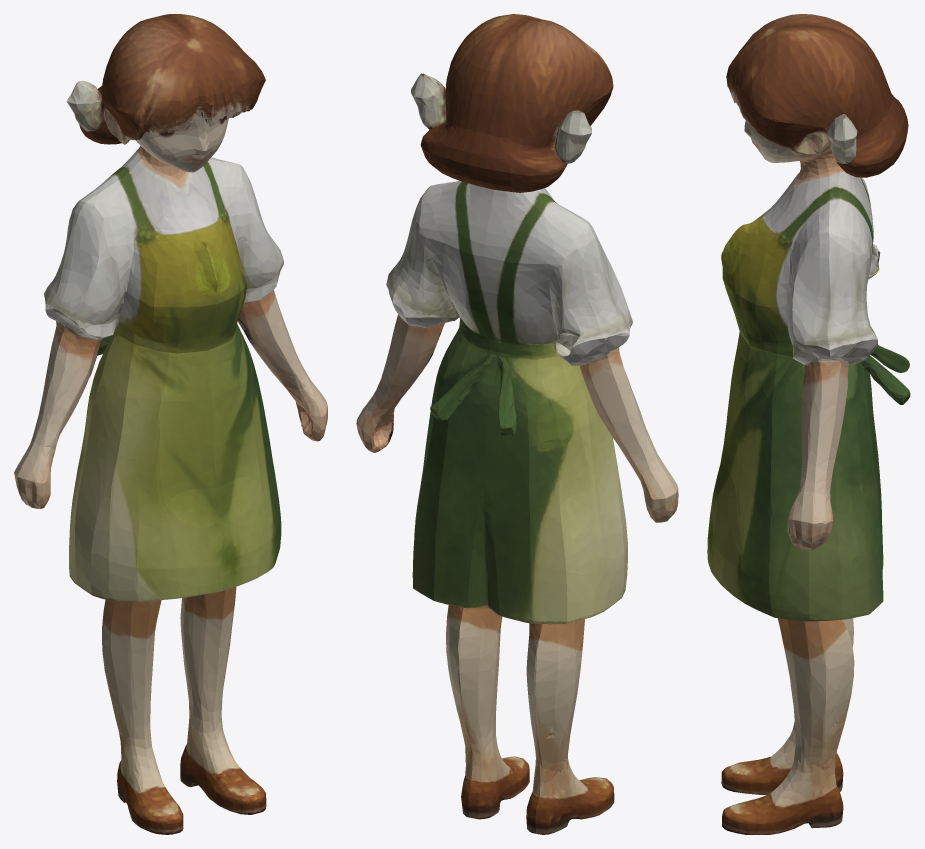
Rendered from barista-out_model_file.glb.
3 views of the same model, side by side, from view 1: azimuth 30°, elevation 25°; view 2: azimuth 150°, elevation 25°; view 3: azimuth 270°, elevation 25° (orthographic). The views are drawn at different scales.
Visible parts, largest first — view 1: world; view 2: world; view 3: world.
Boxes of the visible parts, bbox=[...] form: world: bbox=[14, 14, 327, 834]; world: bbox=[356, 14, 678, 834]; world: bbox=[707, 14, 910, 834].
Size of the model in its own units: 0.4198 by 1 by 0.2355.
1 material, 1 textured.
